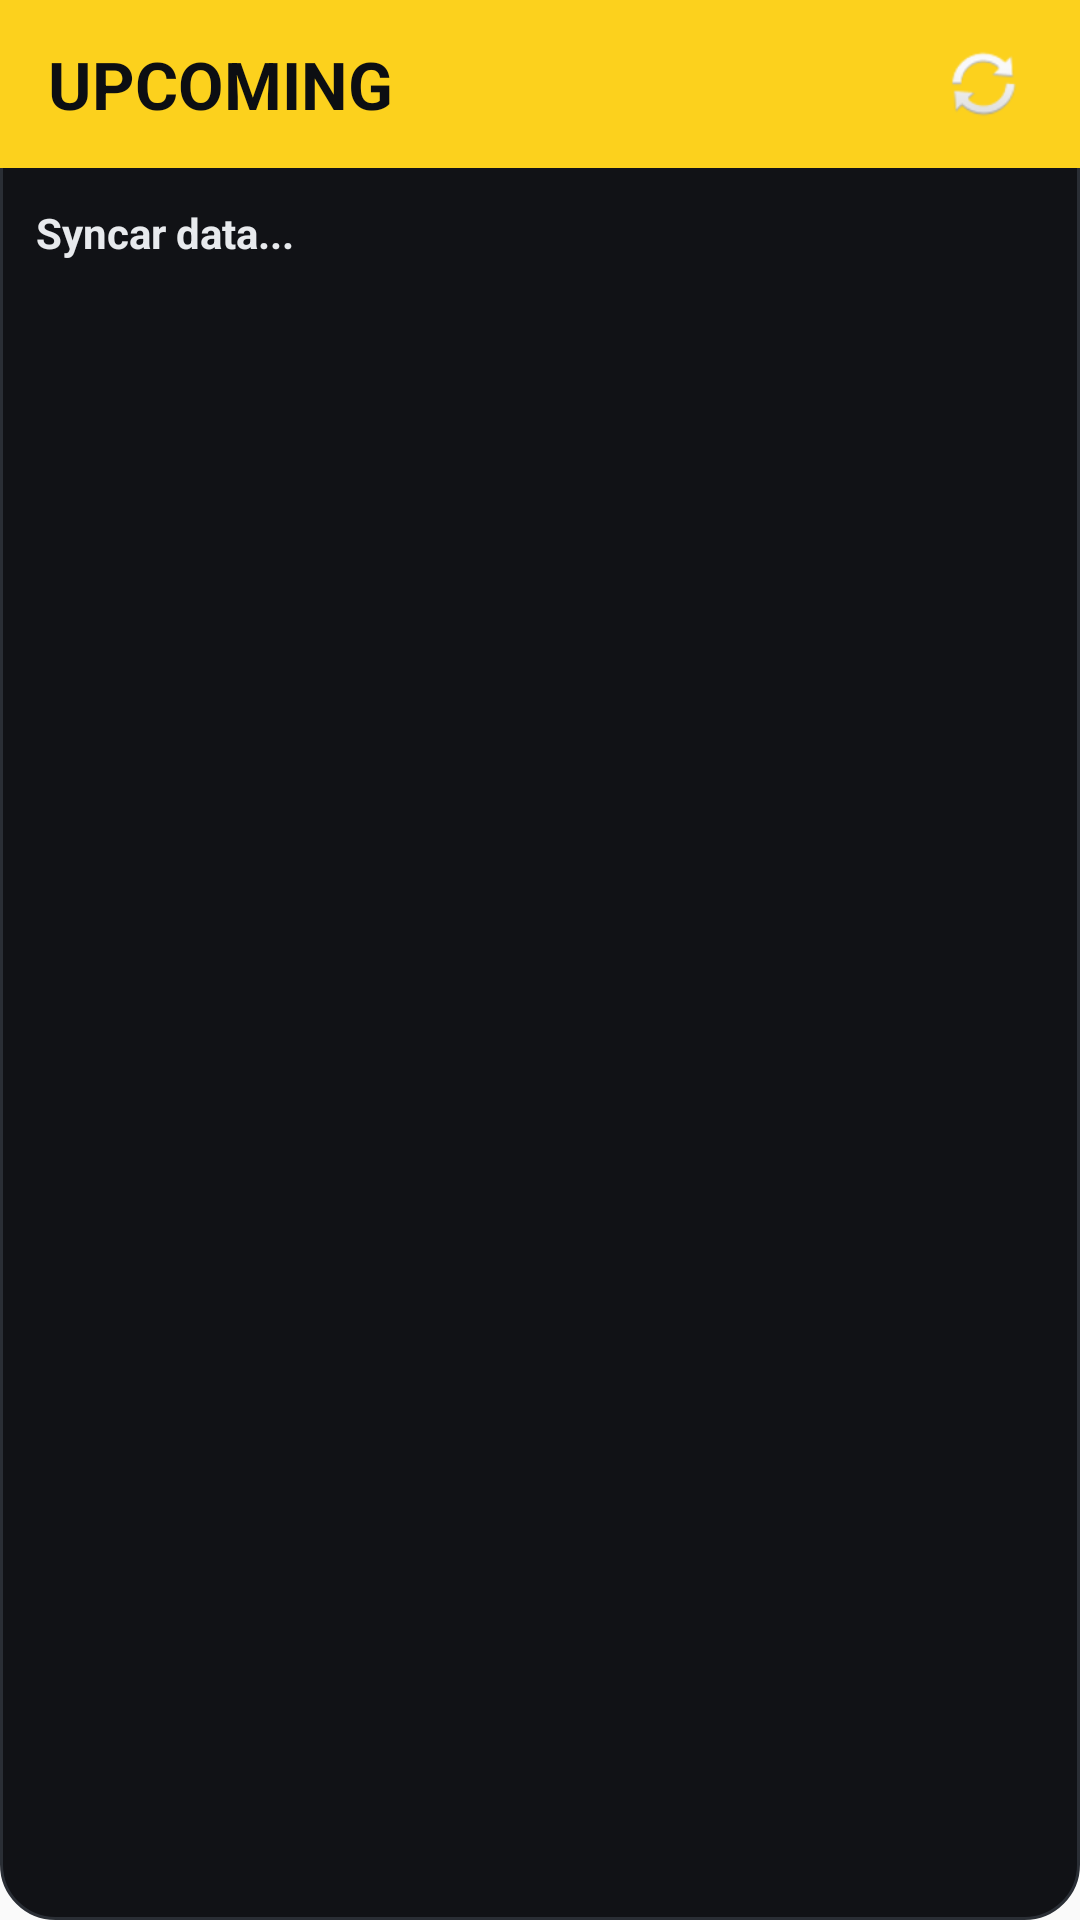

Where icons sit on this 1080x1920 app screen, as [x1, y1, x2, y2]:
Uppdatera: [952, 52, 1016, 116]
